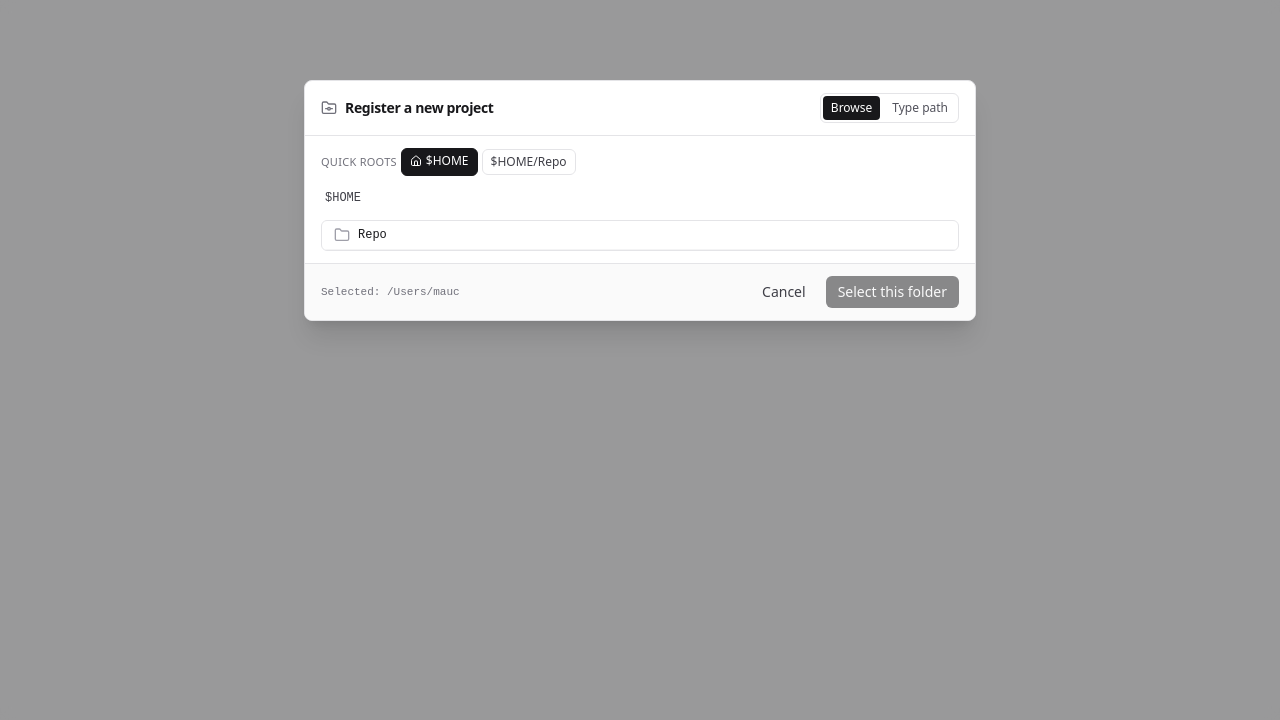
AddProjectModal — browse mode › navigates into a subdir when an entry is clicked
Step 1. Click the button with test id "add-project-entry-Repo" → (342, 235), box [322,221,958,250]
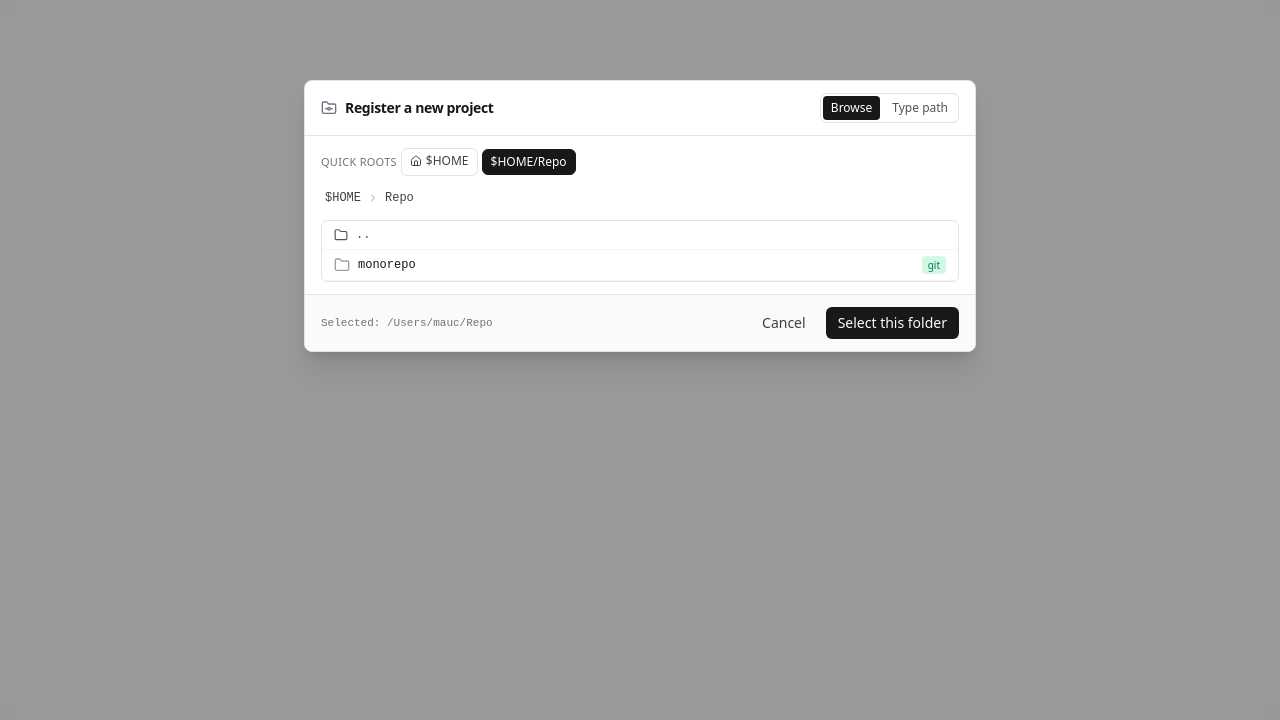
Result: the button with test id "add-project-entry-monorepo" is shown at [322,250,958,281]
